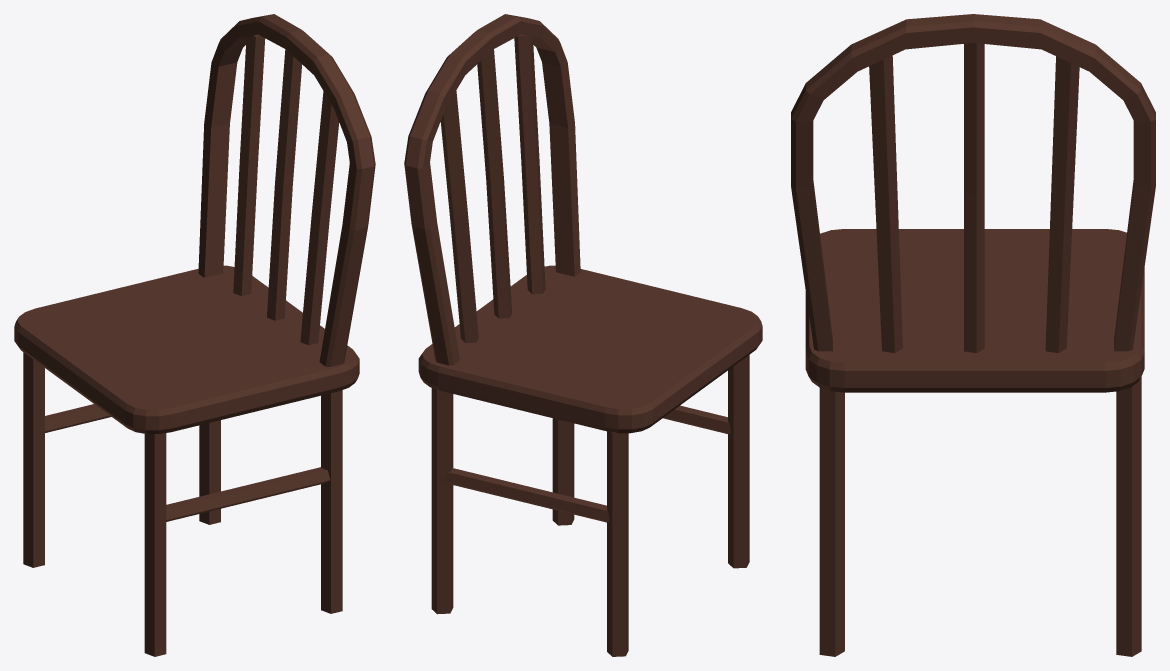
File: chair.glb
3 renders of one model, left to right at view 1: azimuth 30°, elevation 25°; view 2: azimuth 150°, elevation 25°; view 3: azimuth 270°, elevation 25°, orthographic. The views are drawn at different scales.
Visible parts, largest first — view 1: Chair; view 2: Chair; view 3: Chair.
Part boxes in pixels (x1,y1,x2,y2): Chair: (14, 14, 375, 656); Chair: (404, 14, 762, 656); Chair: (791, 14, 1155, 656).
Size of the model in its own units: 0.5037 by 1.09 by 0.5595.
